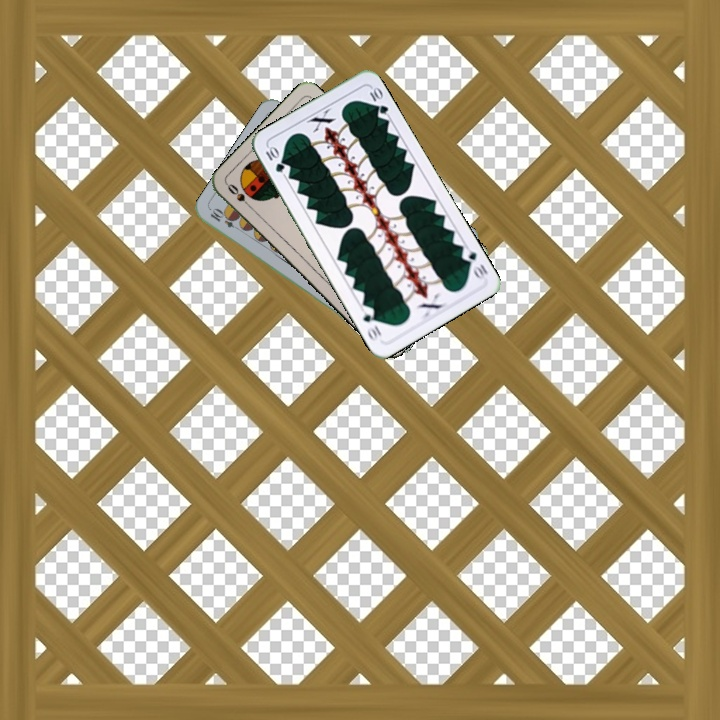E10: (206, 205, 244, 233)
G10: (457, 243, 490, 281), (261, 142, 287, 175)
SO: (223, 179, 256, 213)
